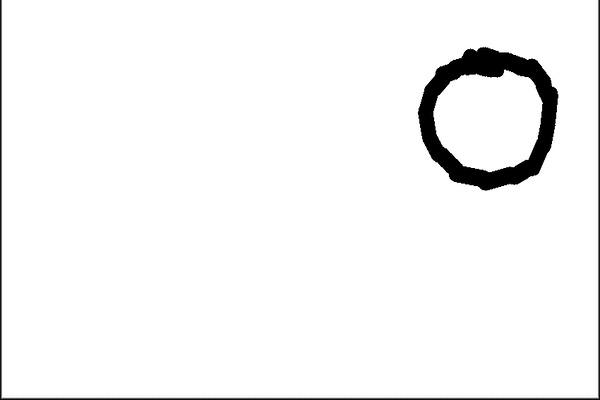O: (410, 39, 563, 196)
